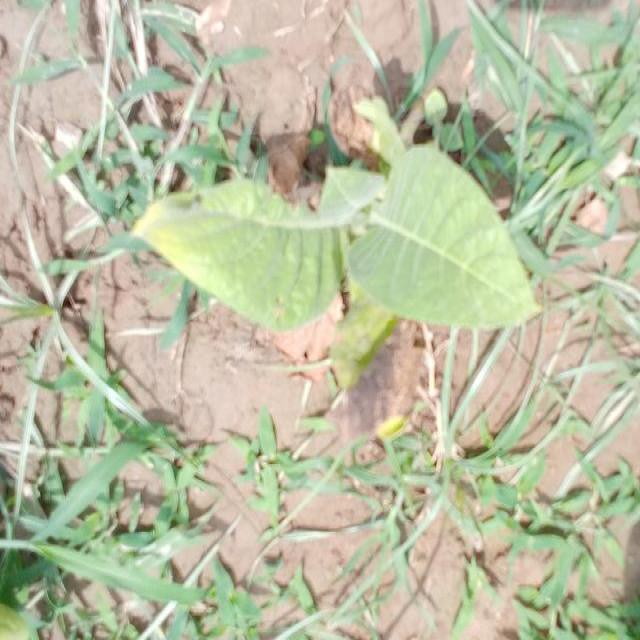crop: (166, 120, 525, 358)
